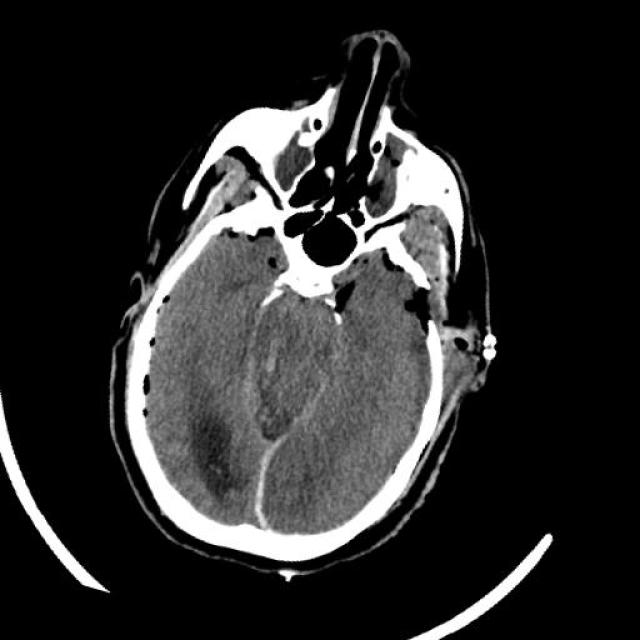Subdural: (209, 403, 327, 552)
